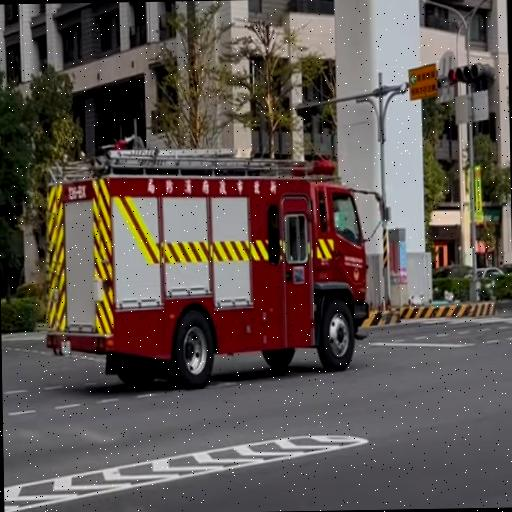fire truck: (46, 145, 377, 388)
